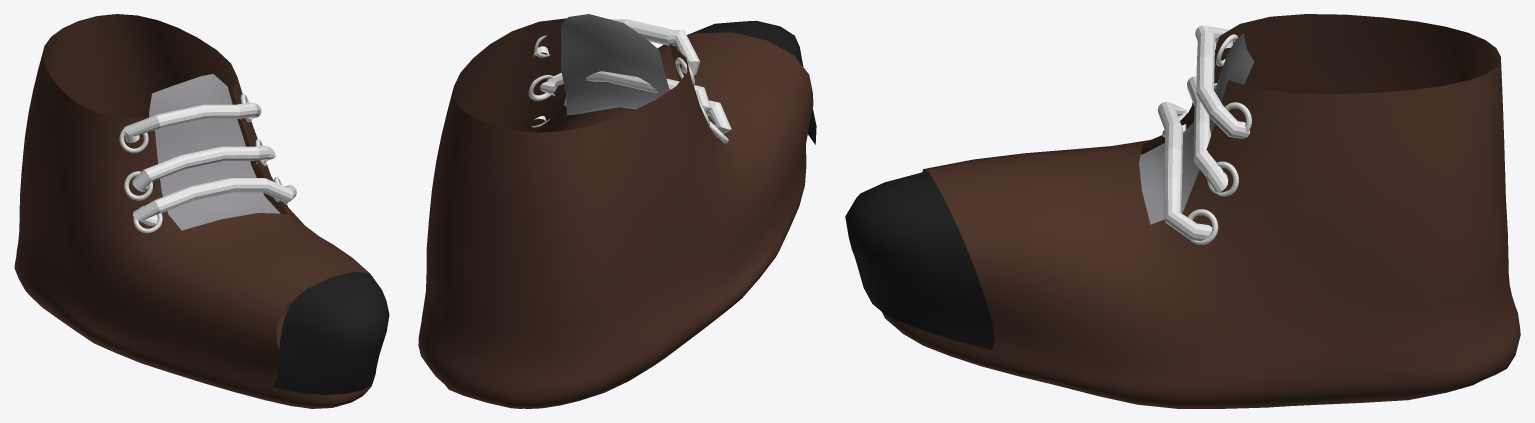
File: Shoe_Style_1.gltf
3 renders of one model, left to right at view 1: azimuth 30°, elevation 25°; view 2: azimuth 150°, elevation 25°; view 3: azimuth 270°, elevation 25°, orthographic. The views are drawn at different scales.
Parts seen in each view (by area): view 1: Plane, Plane.002, Plane.001, Vert, Vert.001, Vert.002; view 2: Plane, Plane.001, Plane.002, Vert.002, Vert.001, Vert; view 3: Plane, Plane.002, Plane.001, Vert, Vert.002, Vert.001.
Boxes of the visible parts, bbox=[...] form: Plane: bbox=[14, 14, 371, 408]; Plane.002: bbox=[273, 271, 389, 394]; Plane.001: bbox=[149, 74, 280, 230]; Vert: bbox=[133, 178, 296, 225]; Vert.001: bbox=[132, 145, 275, 191]; Vert.002: bbox=[124, 102, 261, 143]; Plane: bbox=[418, 18, 813, 408]; Plane.001: bbox=[561, 14, 669, 115]; Plane.002: bbox=[687, 20, 816, 144]; Vert.002: bbox=[533, 19, 699, 75]; Vert.001: bbox=[540, 71, 711, 112]; Vert: bbox=[534, 98, 731, 137]; Plane: bbox=[882, 14, 1520, 408]; Plane.002: bbox=[845, 171, 994, 349]; Plane.001: bbox=[1139, 30, 1254, 224]; Vert: bbox=[1157, 101, 1212, 241]; Vert.002: bbox=[1195, 25, 1249, 138]; Vert.001: bbox=[1187, 76, 1228, 192].
Bounding box in the file's own units: 1.05 × 1.2 × 2.25.
